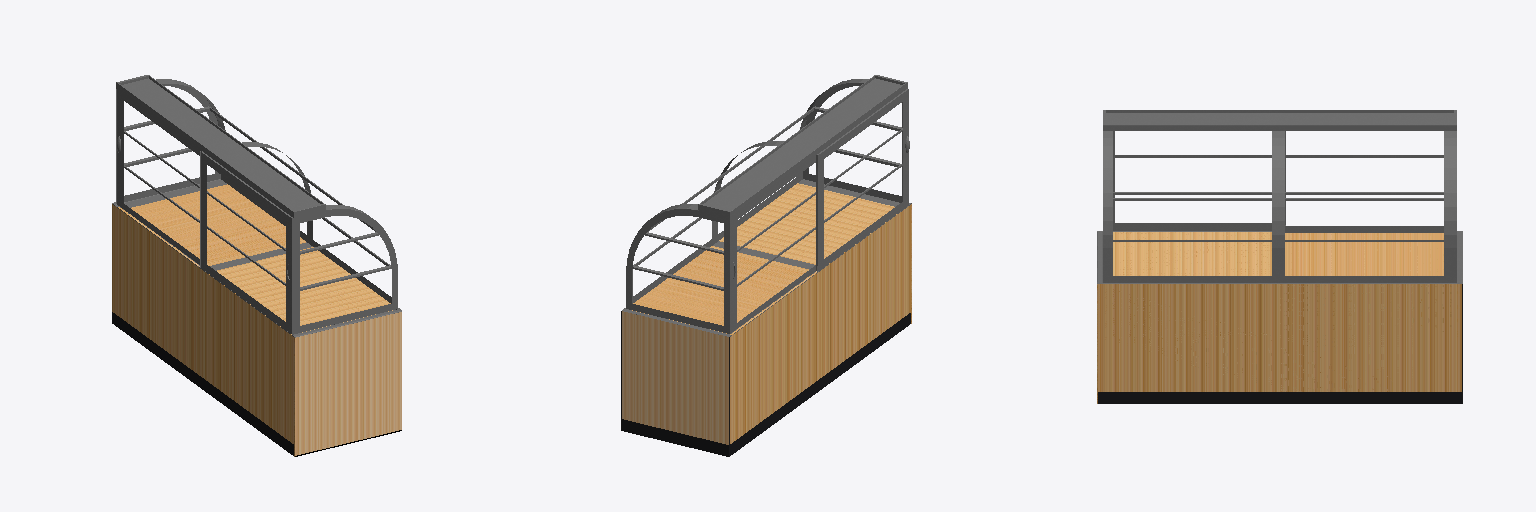
The picture shows the model from 3 angles: view 1: azimuth 30°, elevation 25°; view 2: azimuth 150°, elevation 25°; view 3: azimuth 270°, elevation 25°; orthographic projection.
Visible parts, largest first — view 1: Vitrina2:polySurface215; view 2: Vitrina2:polySurface215; view 3: Vitrina2:polySurface215.
Boxes of the visible parts, <box> form: Vitrina2:polySurface215: <box>112,75,401,456</box>; Vitrina2:polySurface215: <box>621,75,911,456</box>; Vitrina2:polySurface215: <box>1097,110,1462,403</box>.
Size of the model in its own units: 1.03 by 2.17 by 2.97.
Materials: 7 (3 with a texture image).